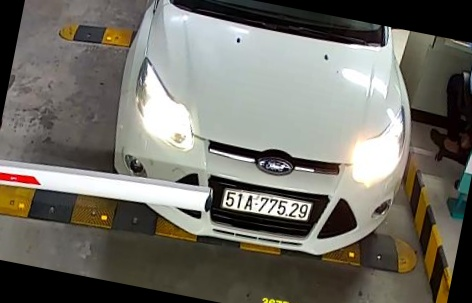plate: (222, 183, 317, 228)
